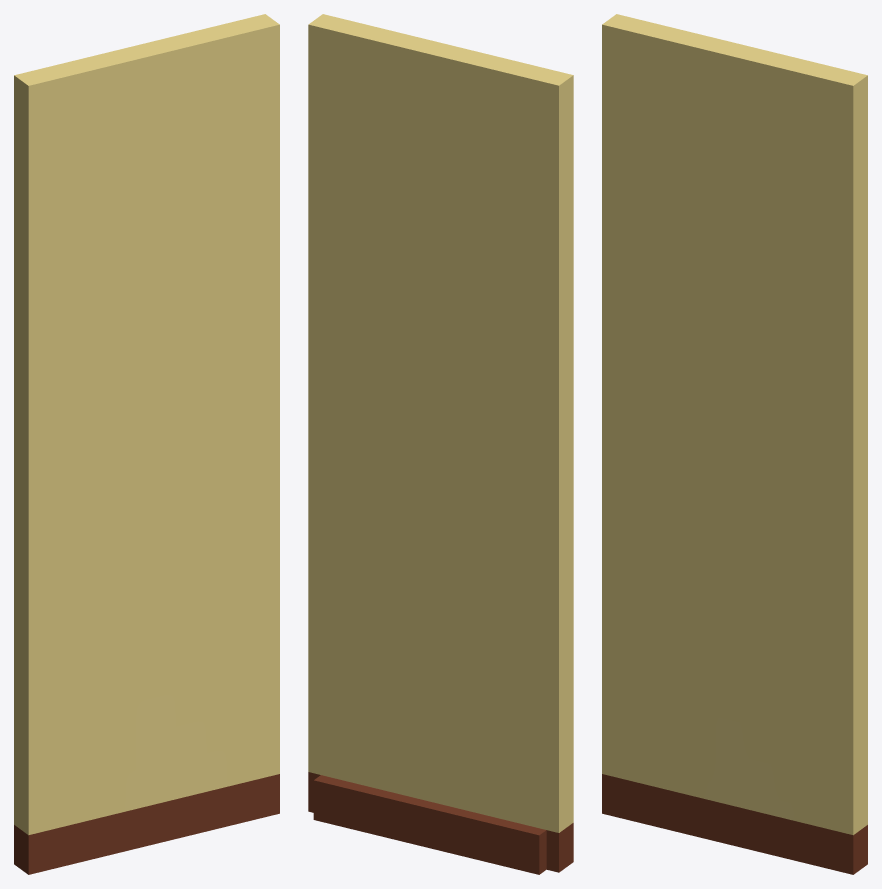
Rendered from wall-center.fbx.
3 renders of one model, left to right at view 1: azimuth 30°, elevation 25°; view 2: azimuth 150°, elevation 25°; view 3: azimuth 330°, elevation 25°, orthographic.
Parts seen in each view (by area): view 1: Wall.001; view 2: Wall.001; view 3: Wall.001.
Boxes of the visible parts, x1,y1,x2,y2 form: Wall.001: (14,14,279,874); Wall.001: (308,14,573,874); Wall.001: (602,14,867,874).
Size of the model in its own units: 200 by 600 by 30.
